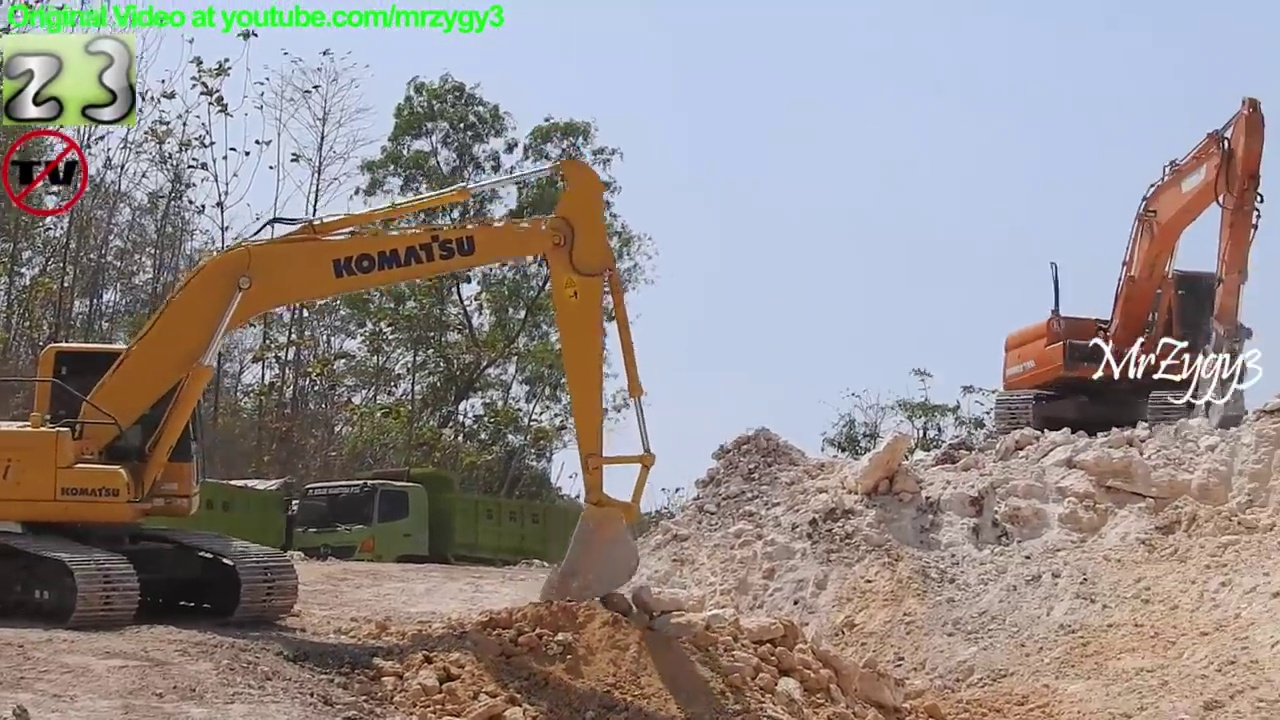excavator: (1, 152, 661, 633)
excavator breaker: (991, 93, 1274, 448)
truck: (292, 461, 599, 605), (9, 455, 291, 596)
